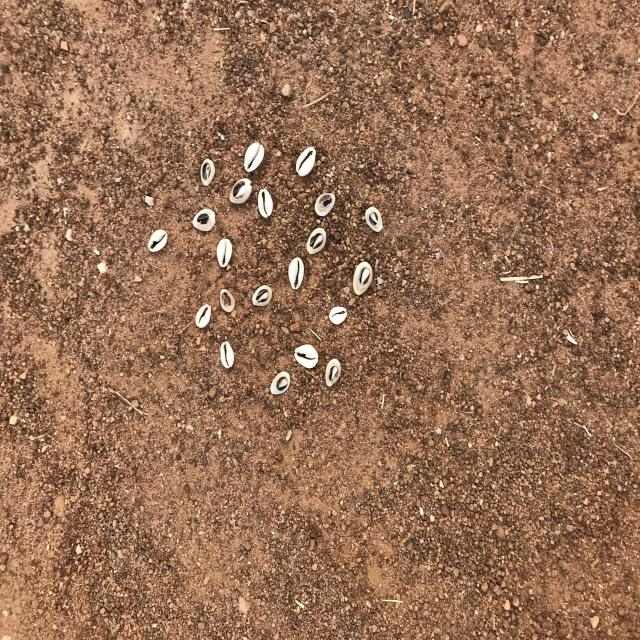facedown: (350, 257, 378, 300), (188, 206, 220, 236), (246, 283, 278, 312), (362, 202, 387, 239), (225, 176, 255, 206), (312, 188, 339, 221), (304, 225, 330, 258), (266, 368, 294, 398), (322, 355, 344, 392), (197, 156, 219, 192), (216, 285, 240, 317)
faceup: (293, 144, 320, 180), (291, 343, 323, 372), (242, 140, 267, 174), (146, 226, 173, 257), (286, 255, 308, 293), (255, 186, 278, 222), (193, 299, 216, 332), (214, 236, 236, 270), (218, 336, 236, 372), (326, 304, 350, 329)
